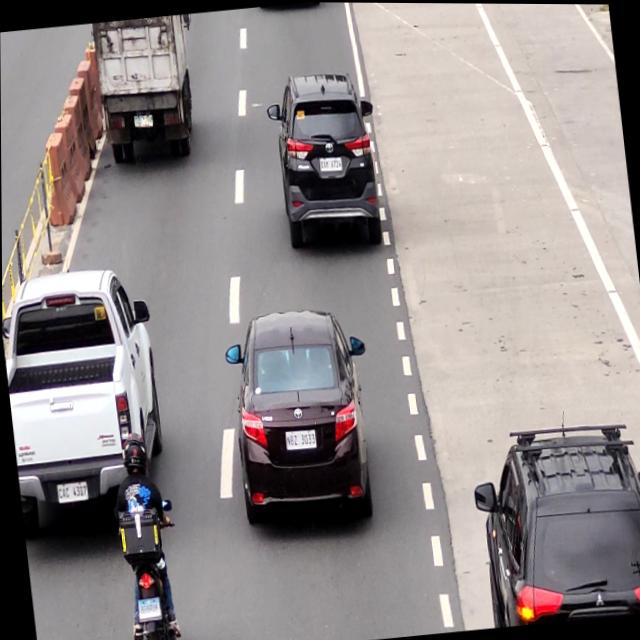Car: (222, 304, 375, 542), (2, 263, 163, 482), (475, 416, 640, 627), (266, 66, 384, 254)
License-Plate: (54, 479, 90, 507), (281, 428, 318, 452), (134, 594, 162, 622), (318, 153, 343, 172)
Motorcycle: (111, 433, 184, 640)
Truck: (91, 13, 198, 167)
